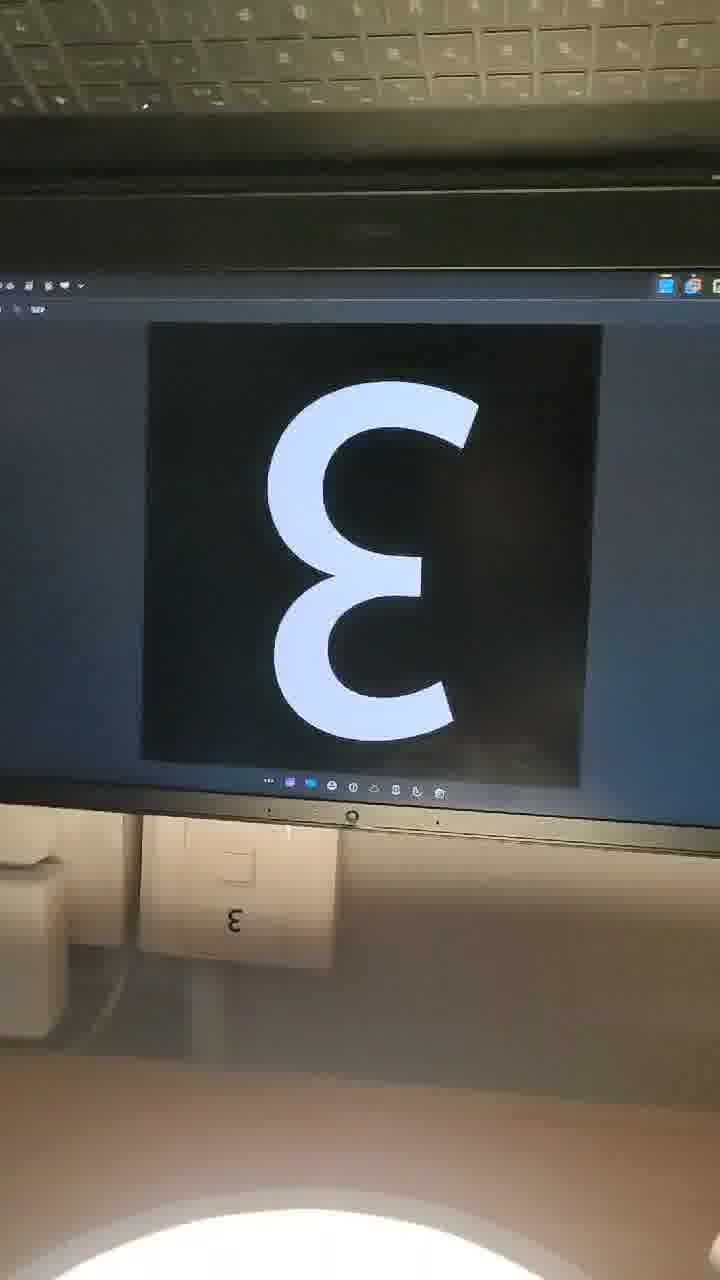three: (163, 318, 529, 831)
